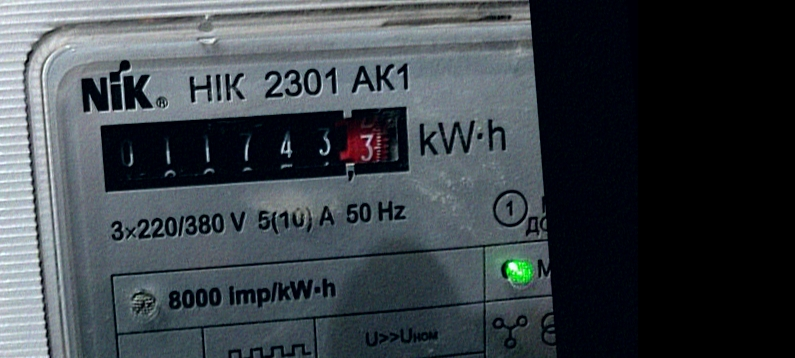0: (117, 134, 138, 171)
1: (199, 129, 217, 164), (163, 132, 175, 165)
3: (313, 122, 335, 159), (358, 131, 379, 165)
4: (276, 125, 296, 161)
7: (238, 127, 258, 163)
screen: (86, 89, 426, 208)
